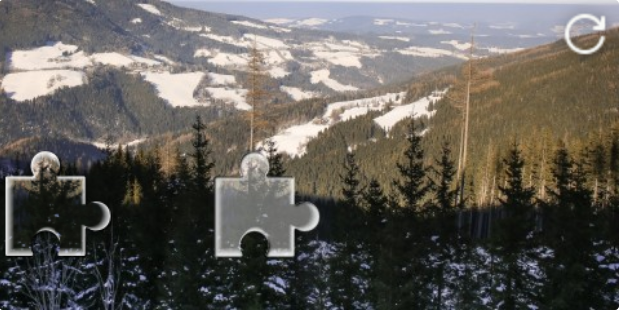target: (213, 152, 321, 257)
